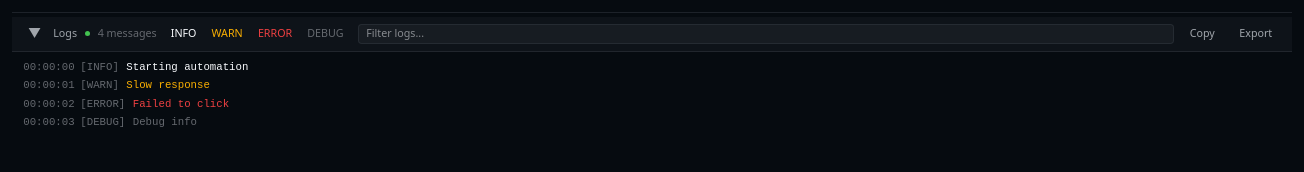
Test: LogViewer › toggling a level back on restores its messages
Click the button with test id "level-toggle-INFO" at (184, 34), box [164,24,203,43]
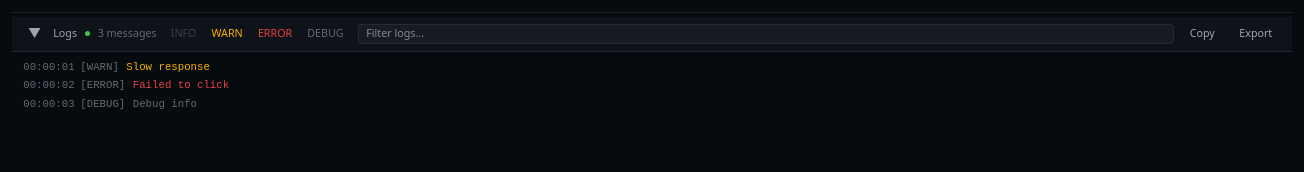
Result: the text "Starting automation" is gone
Click the button with test id "level-toggle-INFO" at (184, 34), box [164,24,203,43]
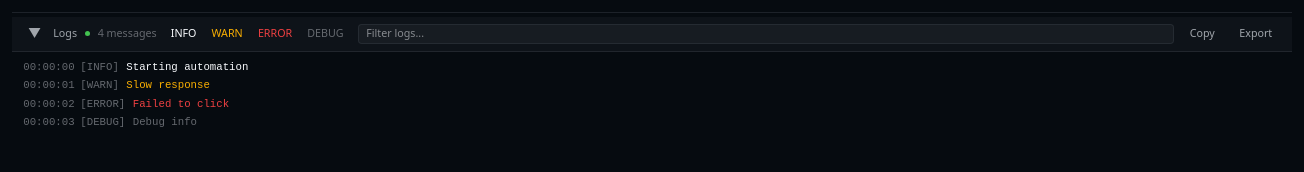
Result: the text "Starting automation" is shown at [126,61,248,73]
